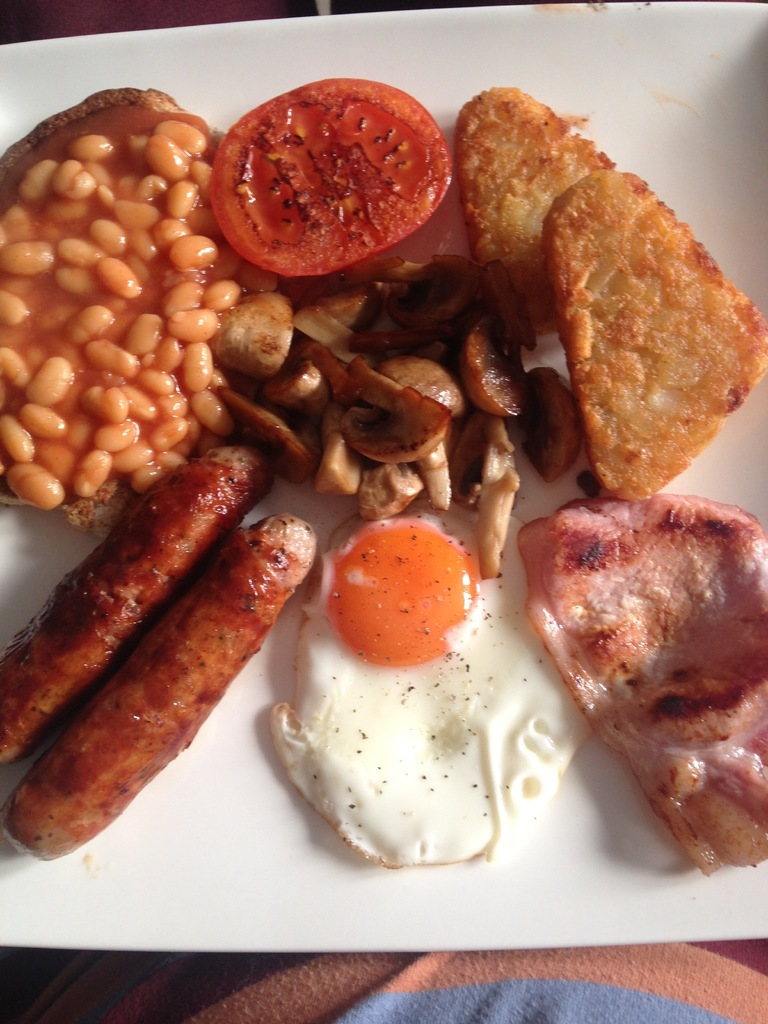Tomato: (204, 79, 464, 254)
